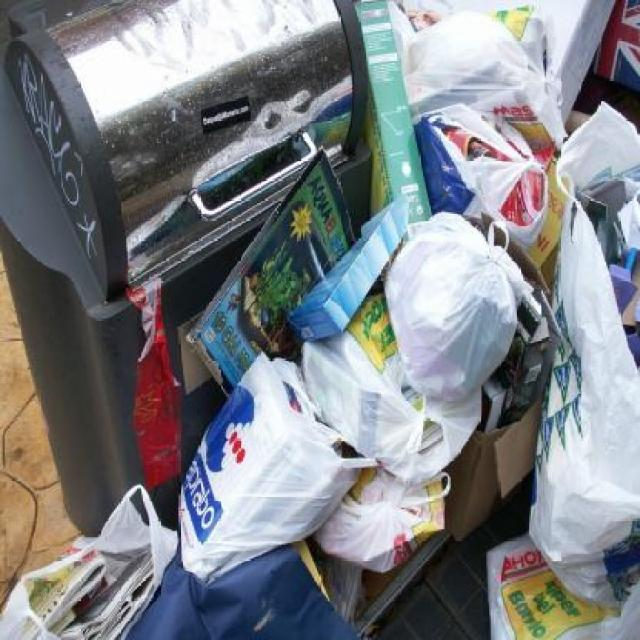plastic bag: (0, 0, 638, 638), (532, 177, 640, 617)
